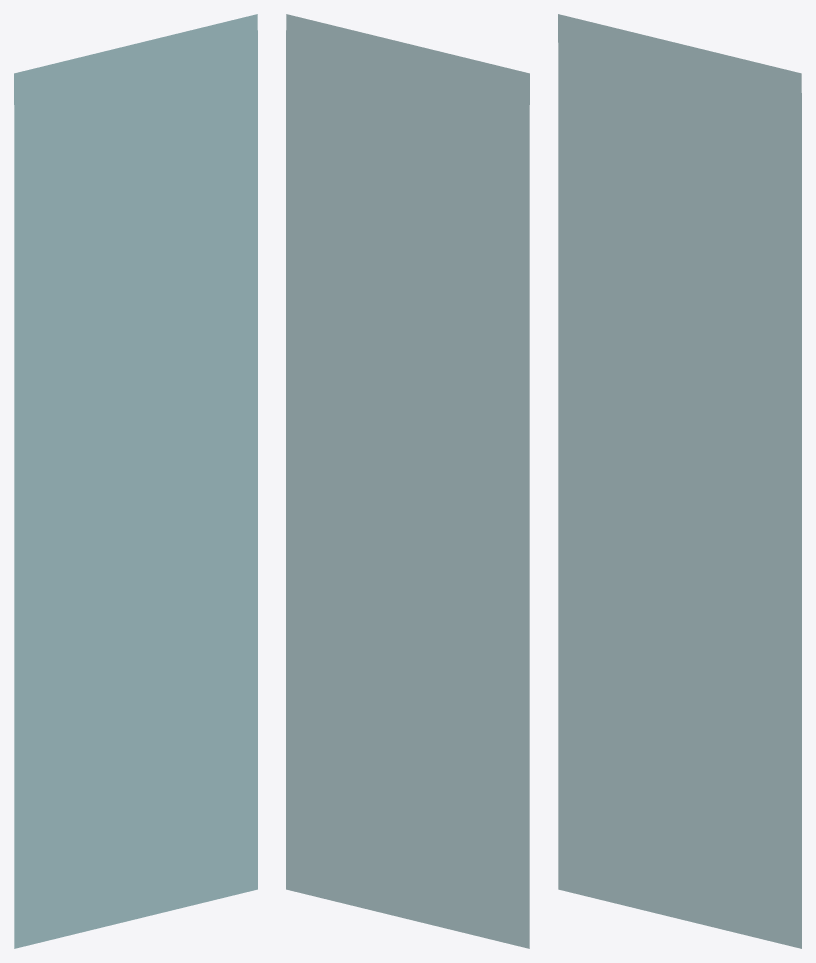
The model's file is Fountain Straight Water.fbx.
3 views of the same model, side by side, from view 1: azimuth 30°, elevation 25°; view 2: azimuth 150°, elevation 25°; view 3: azimuth 330°, elevation 25° (orthographic).
Parts seen in each view (by area): view 1: Fountain Straight Water; view 2: Fountain Straight Water; view 3: Fountain Straight Water.
Part boxes in pixels (x1,y1,x2,y2): Fountain Straight Water: [14, 14, 257, 948]; Fountain Straight Water: [286, 14, 529, 948]; Fountain Straight Water: [558, 14, 801, 948].
Bounding box in the file's own units: 821 × 2816 × 0.000494.
